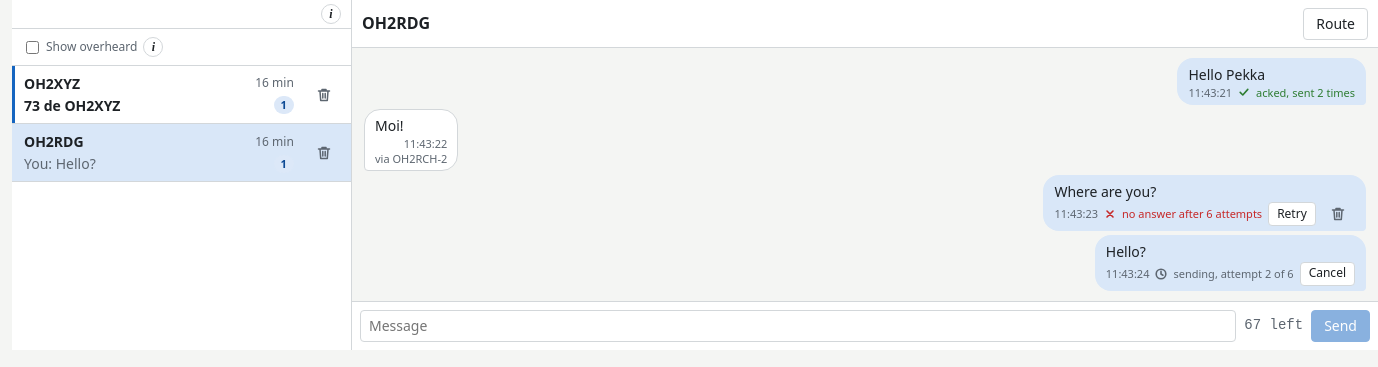
Test: MessagesPane, the route in the header › is a small Route button in the header bar, above the thread and not a block in it, closed until pressed
Click the button with class "route-button" at x=1336, y=24, box [1303,8,1368,40]
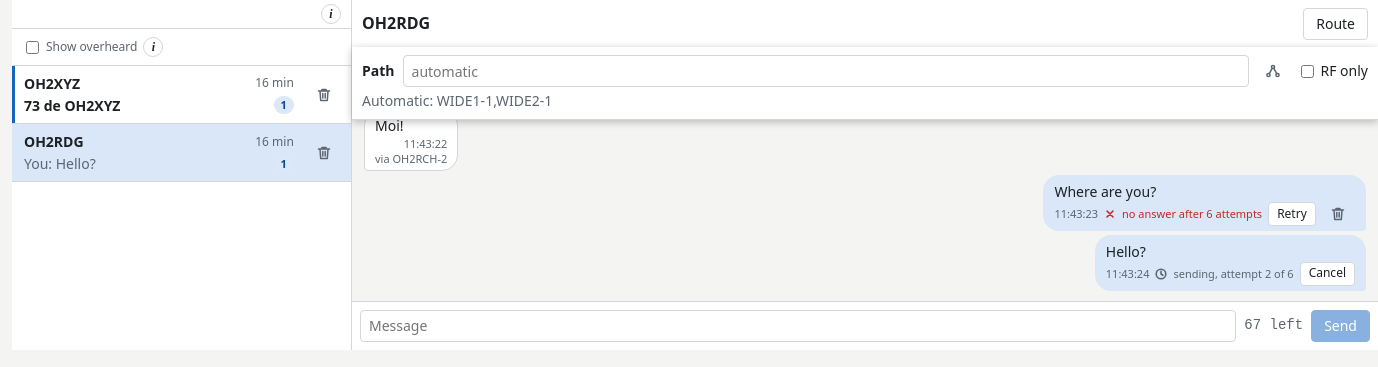
Check: the element showing "Path RF only Automatic: WIDE1-1,WIDE2-1" is shown, box [362,55,1368,111]
